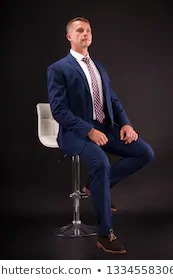F_dress pants: (53, 128, 157, 229)
